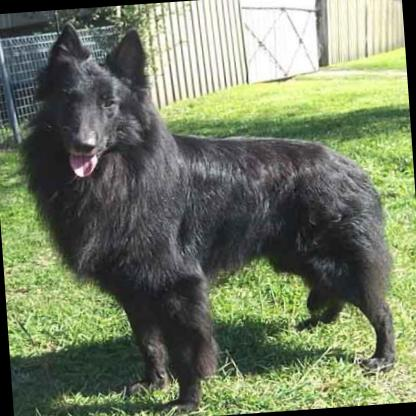schipperke: (6, 0, 401, 416)
